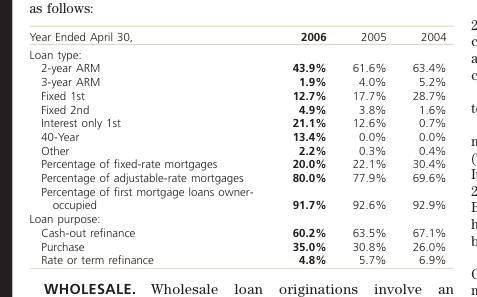table: (28, 28, 445, 265)
table column: (28, 28, 272, 265), (272, 28, 338, 265), (338, 28, 398, 265), (398, 28, 445, 265)
table column header: (28, 28, 445, 44)
table projected row header: (28, 44, 445, 60), (28, 211, 445, 224)
table row: (28, 183, 445, 211), (28, 28, 445, 44), (28, 44, 445, 60), (28, 60, 445, 74), (28, 87, 445, 101), (28, 101, 445, 115), (28, 128, 445, 142), (28, 142, 445, 156), (28, 156, 445, 170), (28, 224, 445, 238), (28, 238, 445, 252), (28, 74, 445, 87), (28, 115, 445, 128), (28, 170, 445, 183), (28, 211, 445, 224), (28, 252, 445, 265)
